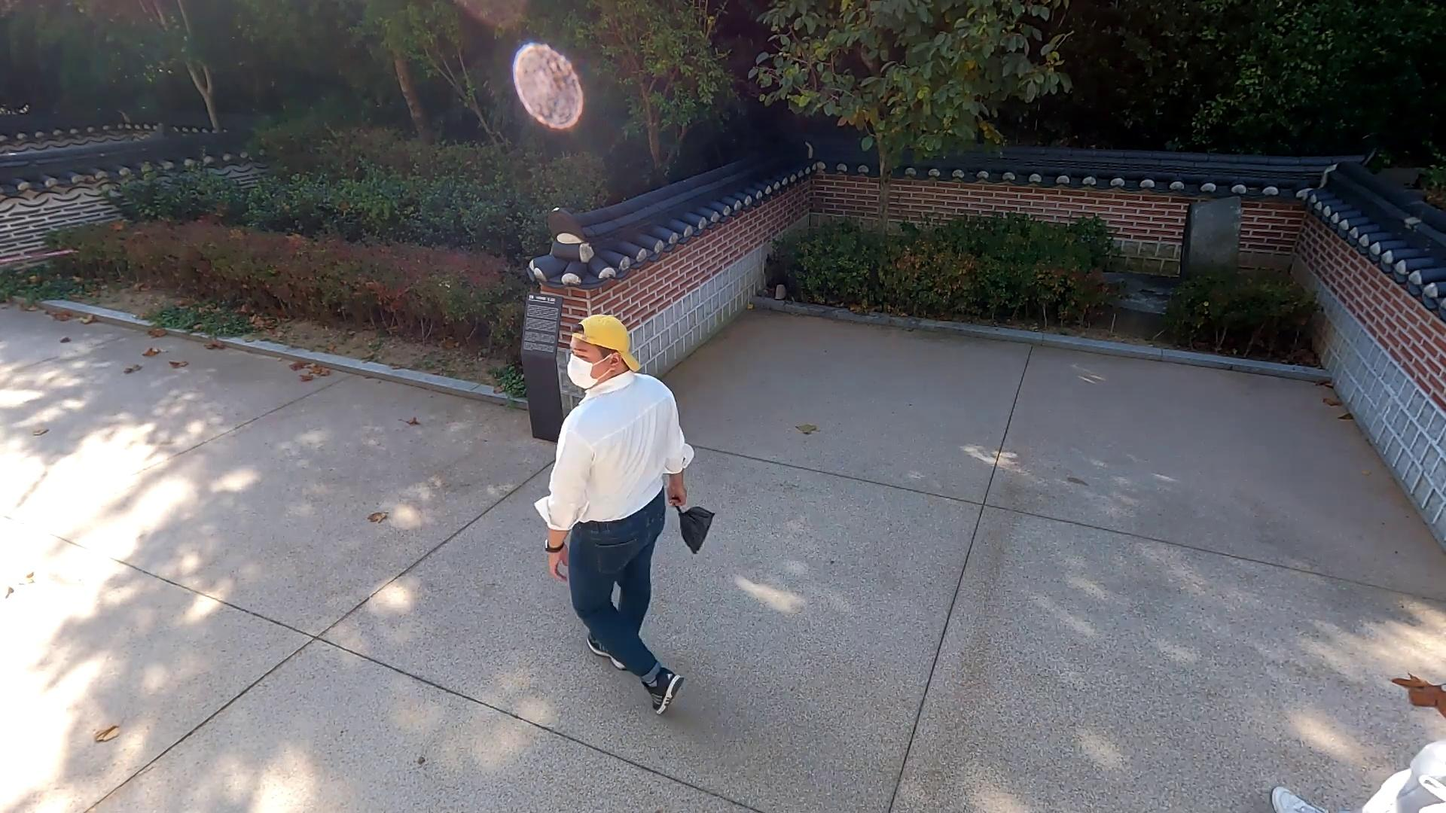person: (536, 307, 735, 722)
trash: (669, 491, 725, 557)
